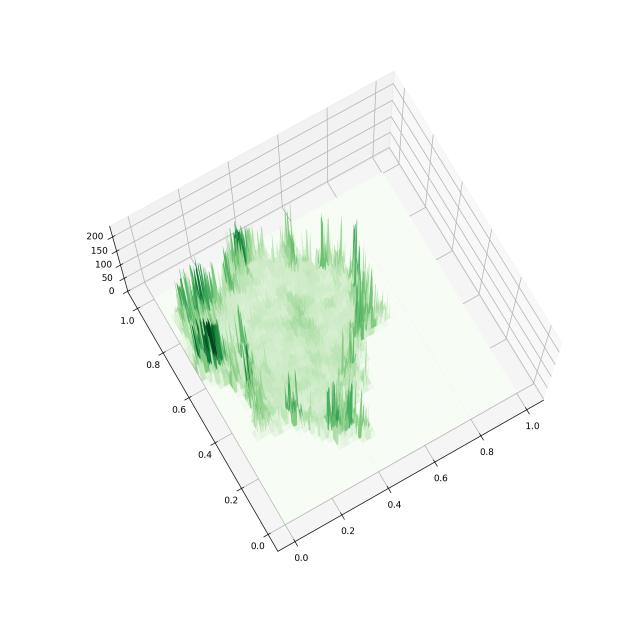spruce: (42, 22, 599, 600)
